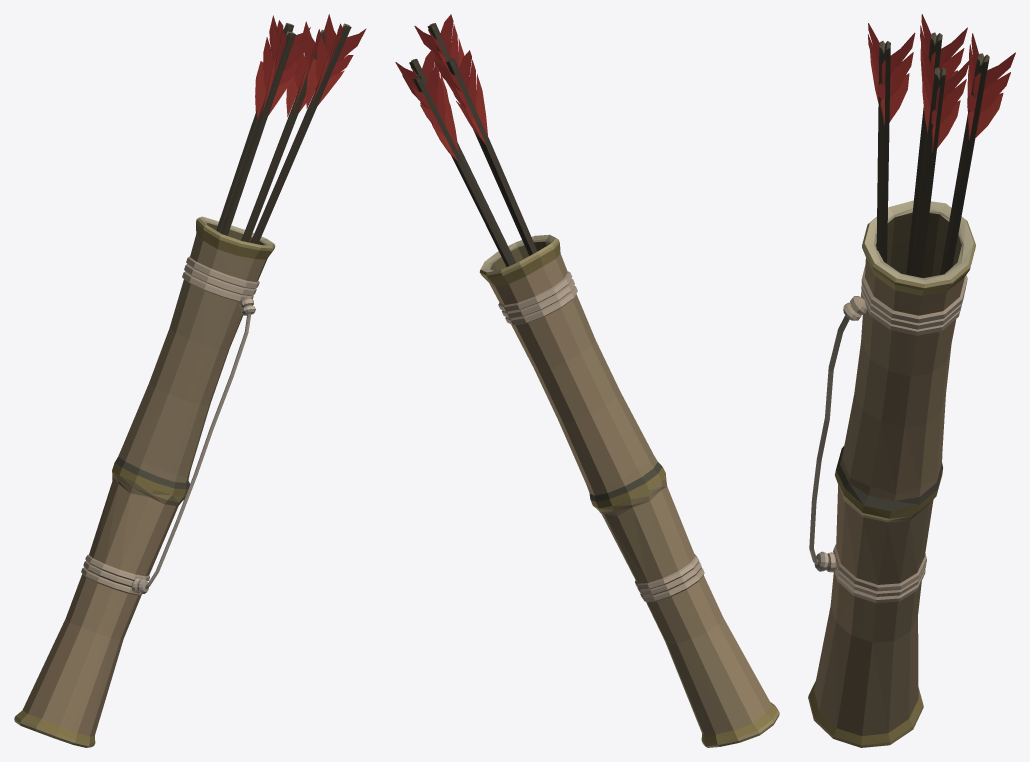
Rendered from bambooQuiver.glb.
The picture shows the model from 3 angles, left to right: view 1: azimuth 30°, elevation 25°; view 2: azimuth 150°, elevation 25°; view 3: azimuth 270°, elevation 25°; orthographic projection. The views are drawn at different scales.
Visible parts, largest first — view 1: bambooQuiver; view 2: bambooQuiver; view 3: bambooQuiver.
Part boxes in pixels (x1,y1,x2,y2): bambooQuiver: (14, 14, 366, 747); bambooQuiver: (395, 14, 779, 747); bambooQuiver: (808, 14, 1015, 747).
Bounding box in the file's own units: 0.5442 × 0.9695 × 0.2039.
